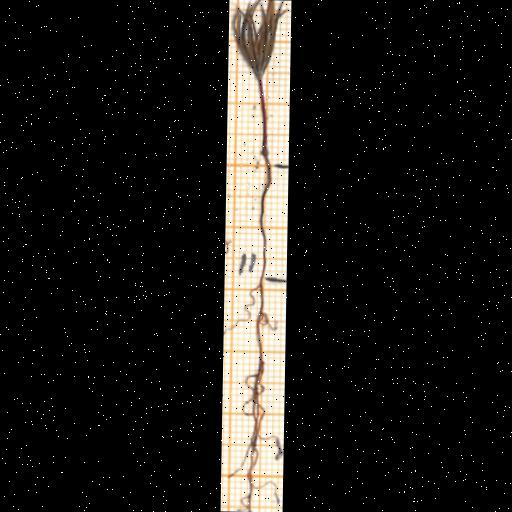flowerPinus: (231, 0, 287, 79)
rootPinus: (231, 282, 283, 511)
stemPinus: (258, 77, 271, 169)
